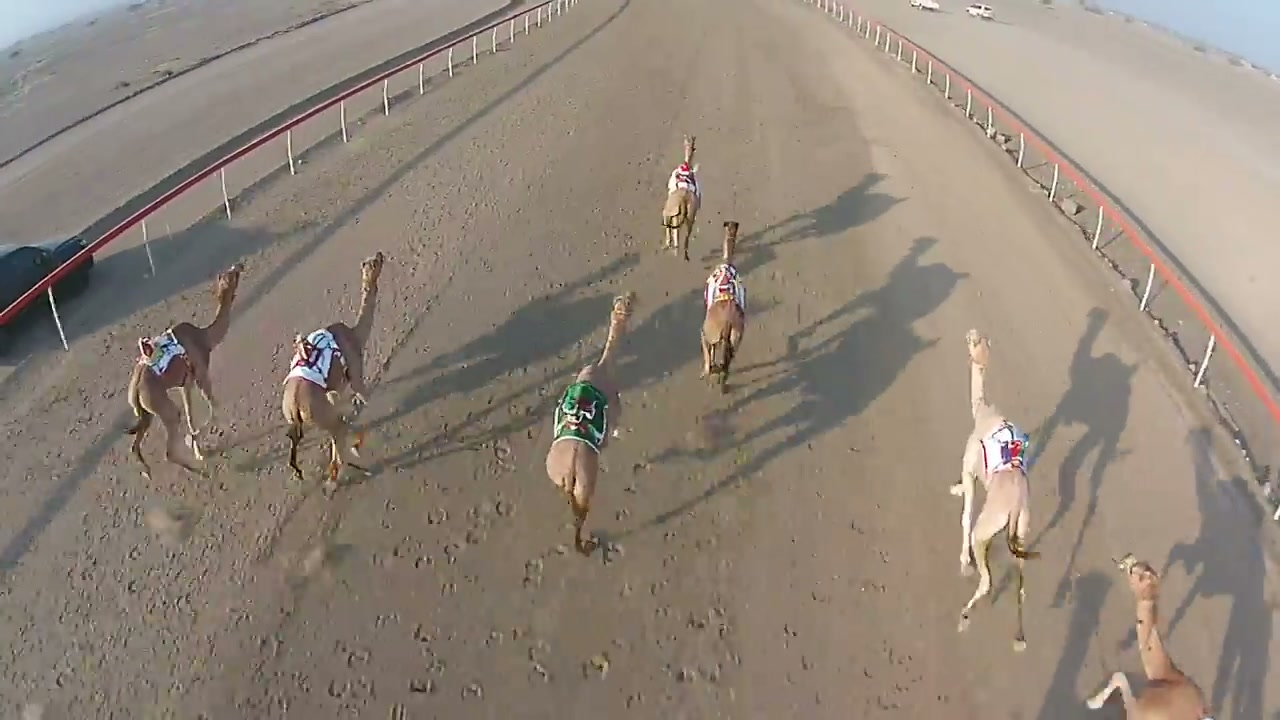animal_footprint: (315, 438, 619, 718), (29, 480, 326, 698)
